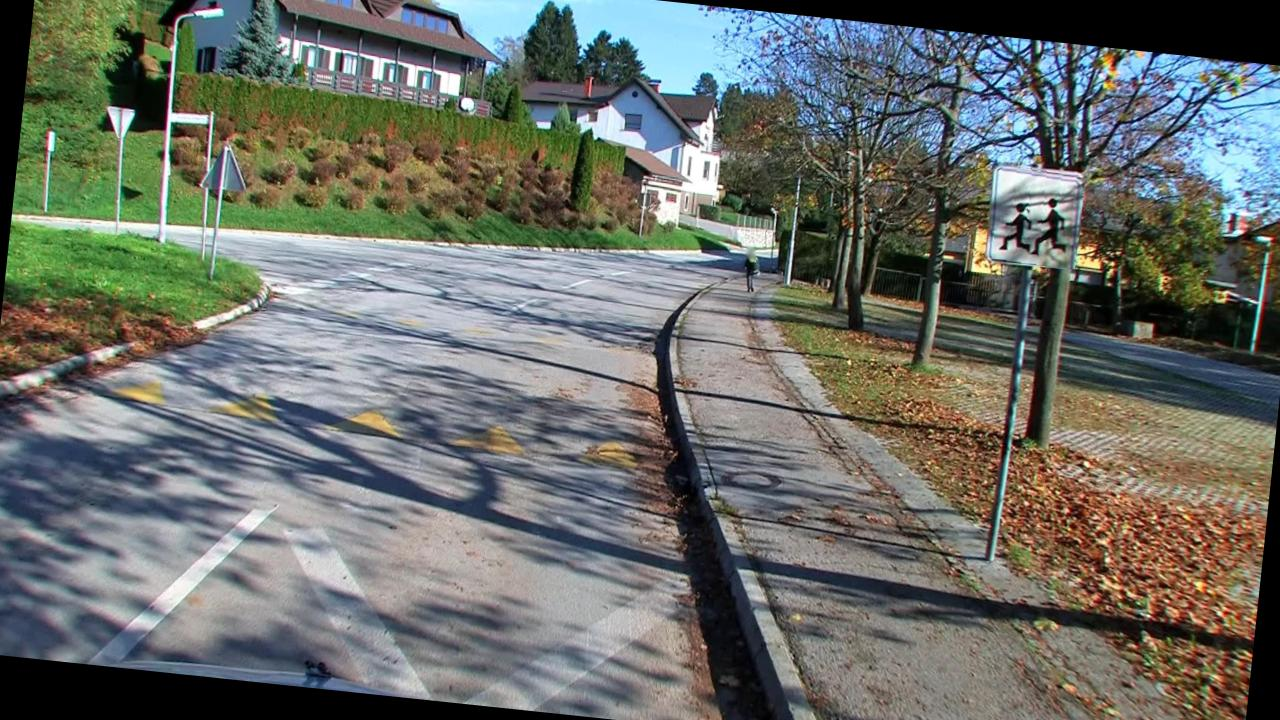Rectangle: (984, 162, 1086, 269)
